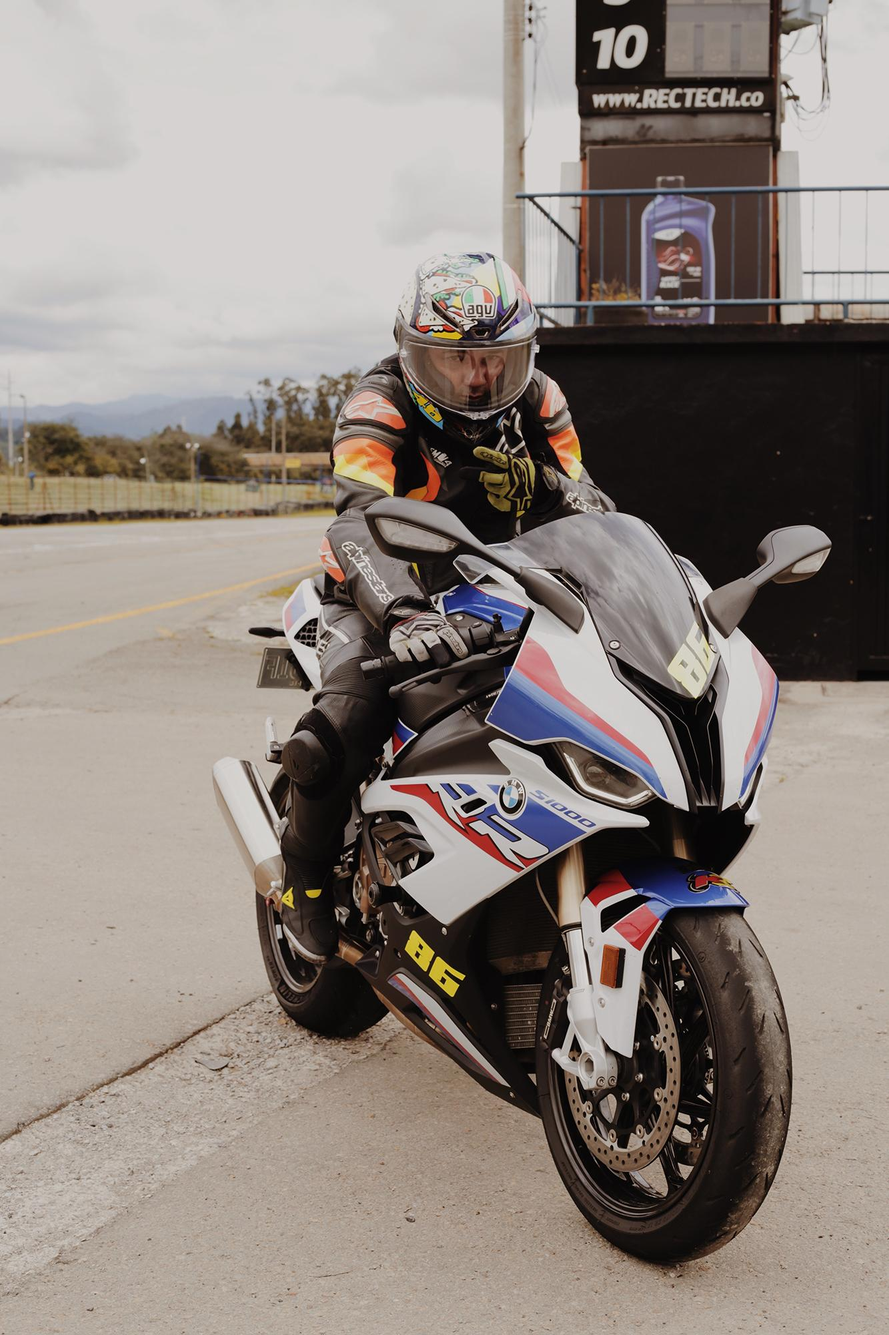helmet: (393, 250, 541, 451)
